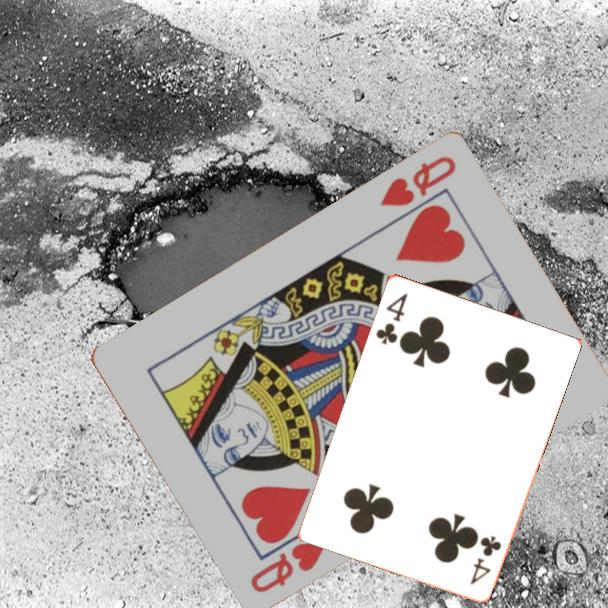c04: (372, 289, 410, 347), (466, 531, 504, 587)
h12: (246, 539, 329, 597), (376, 153, 459, 211)
